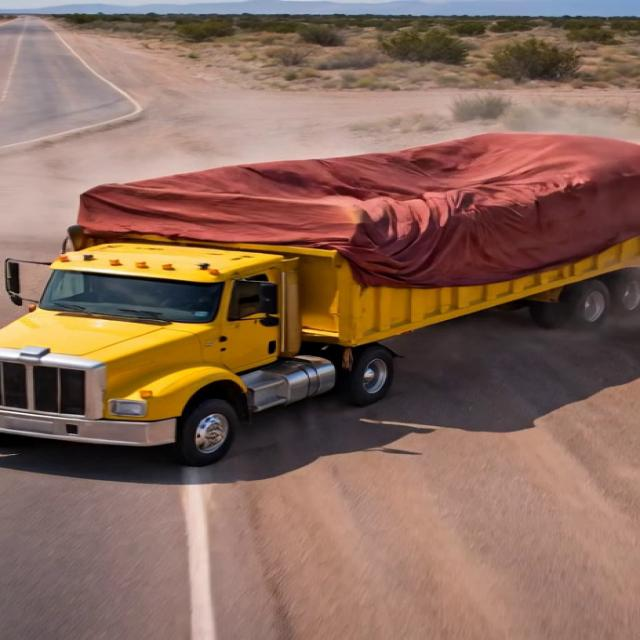trailer: (82, 132, 640, 232)
truck: (6, 105, 626, 487)
